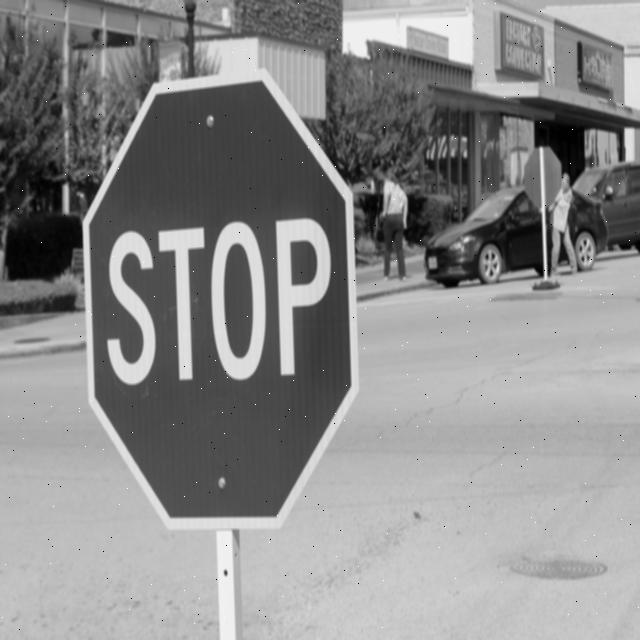Stop-sign: (71, 28, 366, 567)
